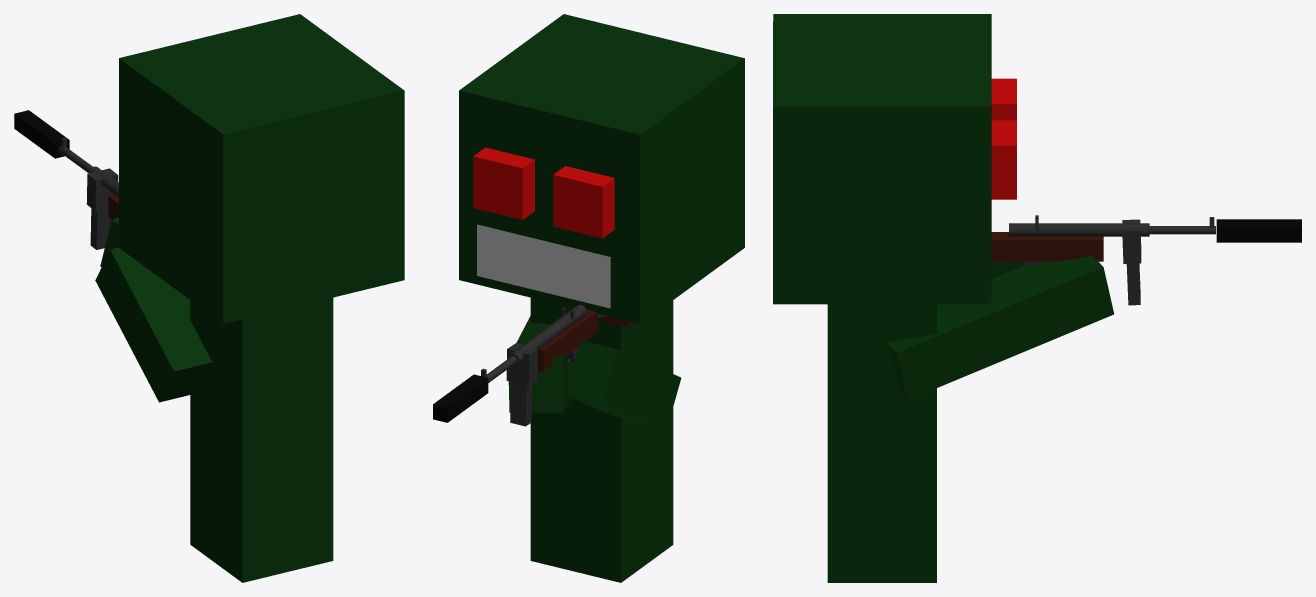
The model's file is walk2_000001.obj.
The picture shows the model from 3 angles, left to right: view 1: azimuth 30°, elevation 25°; view 2: azimuth 150°, elevation 25°; view 3: azimuth 270°, elevation 25°; orthographic projection. The views are drawn at different scales.
Parts seen in each view (by area): view 1: Cube.001, Cube, Cube.012, Cube.014_Cube.015, Cube.004, Cube.008_Cube.005; view 2: Cube.001, Cube, Plane, Cube.012, Cube.002, Cube.003, Cube.013, Cube.010, Cube.014_Cube.015, Cylinder, Cube.004, Cube.008_Cube.005; view 3: Cube.001, Cube, Cube.013, Cube.010, Cube.002, Cube.014_Cube.015, Cylinder, Cube.003, Cube.004.
Boxes of the visible parts, x1,y1,x2,y2 form: Cube.001: (119,14,404,324); Cube: (190,297,333,582); Cube.012: (95,247,212,402); Cube.014_Cube.015: (14,110,69,158); Cube.004: (86,168,118,211); Cube.008_Cube.005: (90,208,111,249); Cube.001: (459,14,744,324); Cube: (530,297,673,582); Plane: (477,224,610,308); Cube.012: (567,340,681,430); Cube.002: (473,147,534,219); Cube.003: (553,166,614,238); Cube.013: (508,316,571,412); Cube.010: (537,309,598,371); Cube.014_Cube.015: (433,374,488,422); Cylinder: (508,304,586,365); Cube.004: (506,343,537,385); Cube.008_Cube.005: (510,382,532,426); Cube.001: (773,14,991,304); Cube: (827,304,936,582); Cube.013: (887,256,1113,399); Cube.010: (991,232,1103,261); Cube.002: (991,120,1016,199); Cube.014_Cube.015: (1216,219,1301,242); Cylinder: (1009,223,1149,236); Cube.003: (991,78,1016,120); Cube.004: (1122,219,1141,263).
Bounding box in the file's own units: 2 × 5.05 × 4.84.
